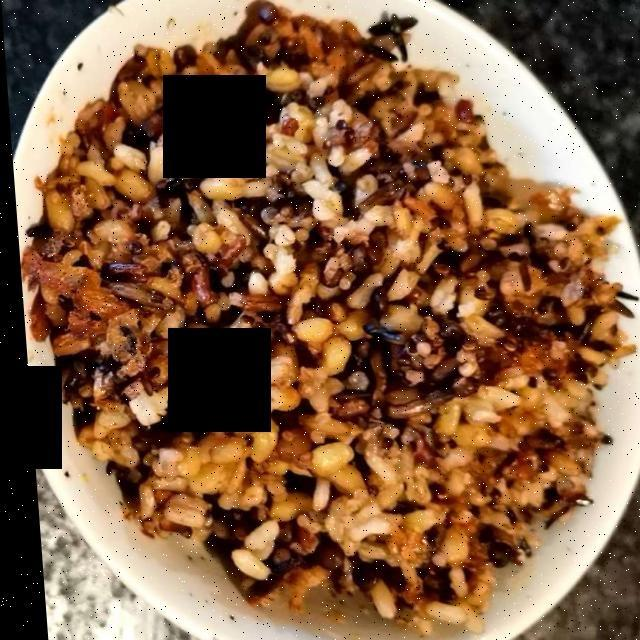rice: (39, 26, 624, 615)
